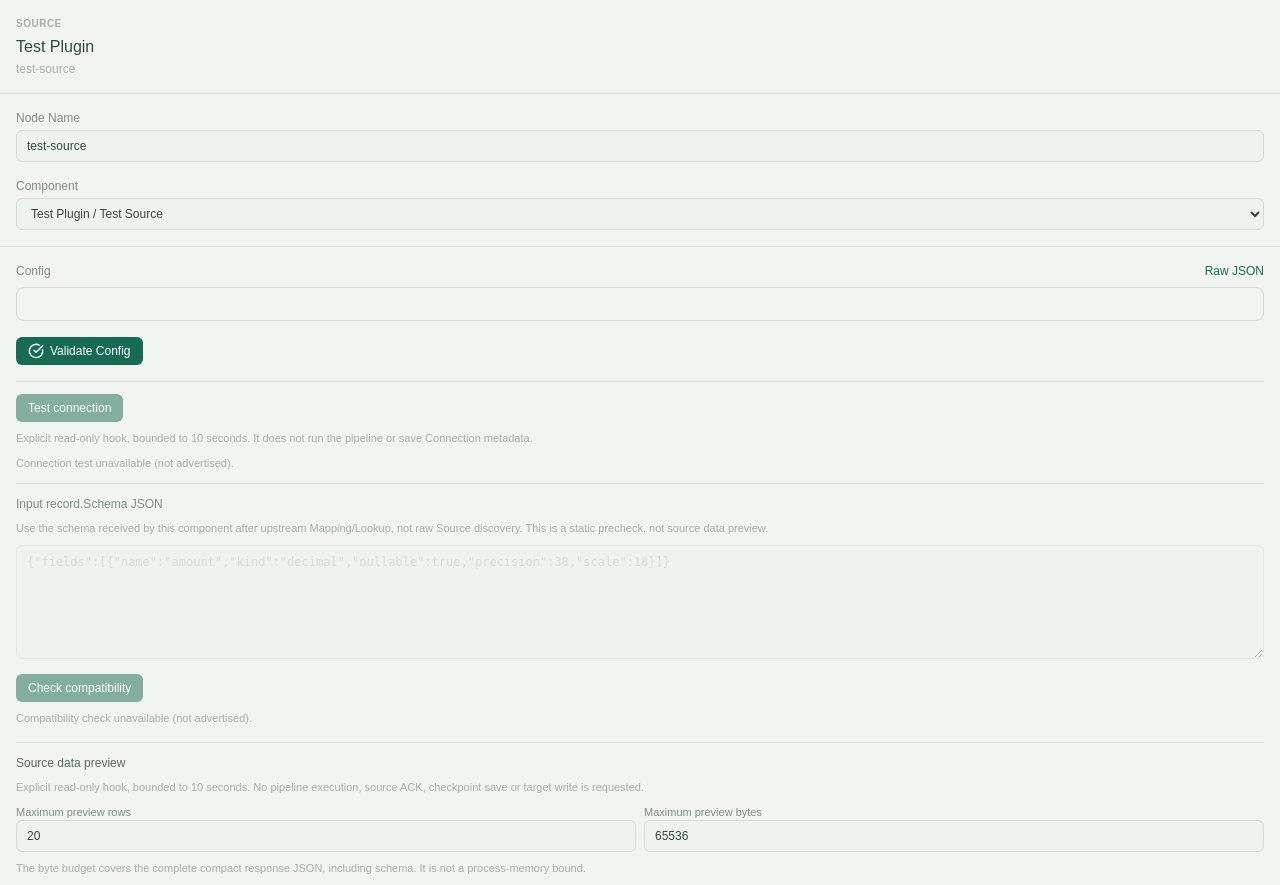
Test: ConfigPanel — ValidateConfig button › shows success message after valid config
Click the button "Validate Config" at (79, 351), box [16, 337, 142, 365]
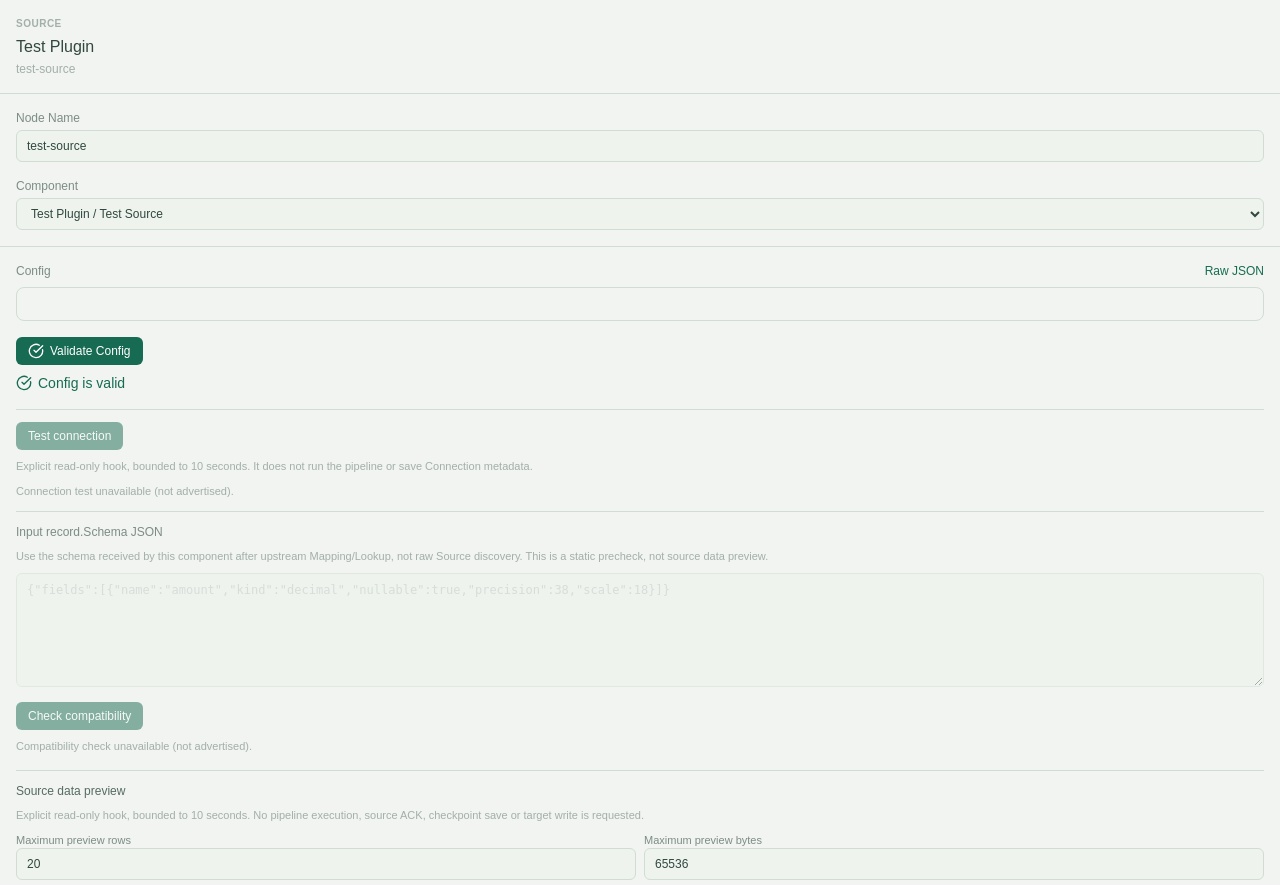
Check: the text "Config is valid" is shown, box [38, 373, 125, 393]
